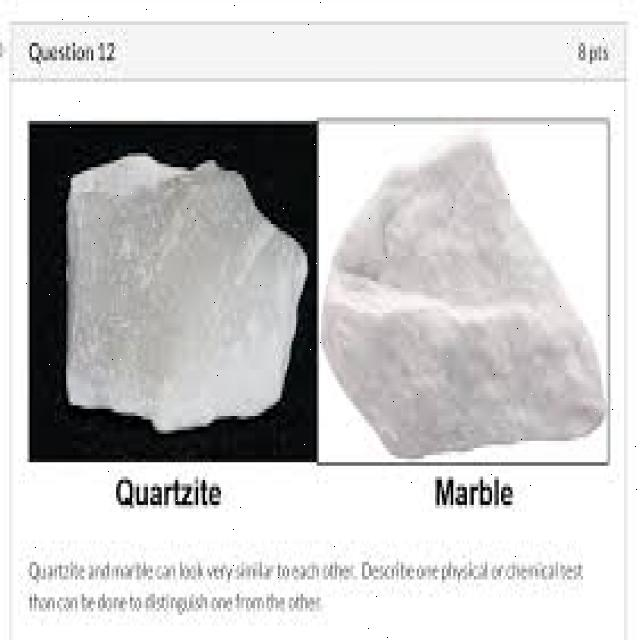Metamorphic: (319, 146, 606, 444), (61, 153, 308, 437)
